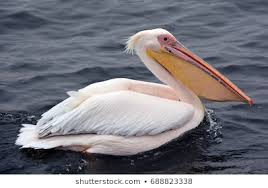pelican: (16, 29, 252, 158)
